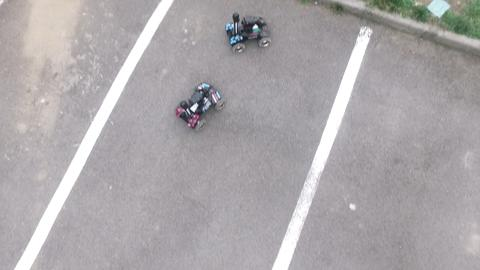chariot: (173, 78, 228, 136), (222, 11, 275, 56)
